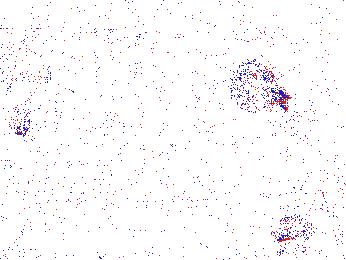flame jellyfish: (271, 187, 346, 249), (1, 50, 54, 136), (228, 59, 291, 113)
